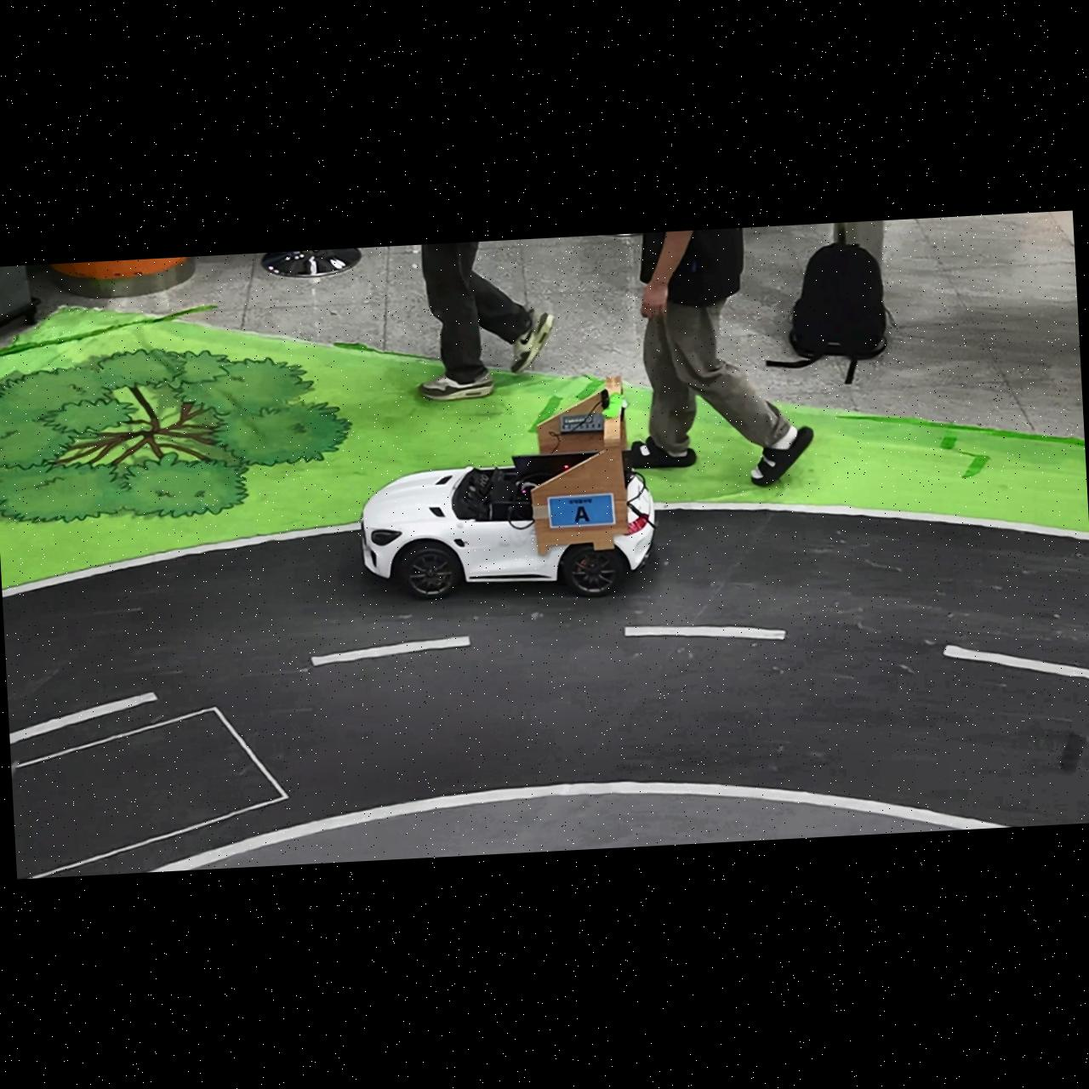broken_line: (9, 692, 157, 744), (942, 644, 1089, 679), (310, 635, 471, 666), (624, 625, 786, 640)
